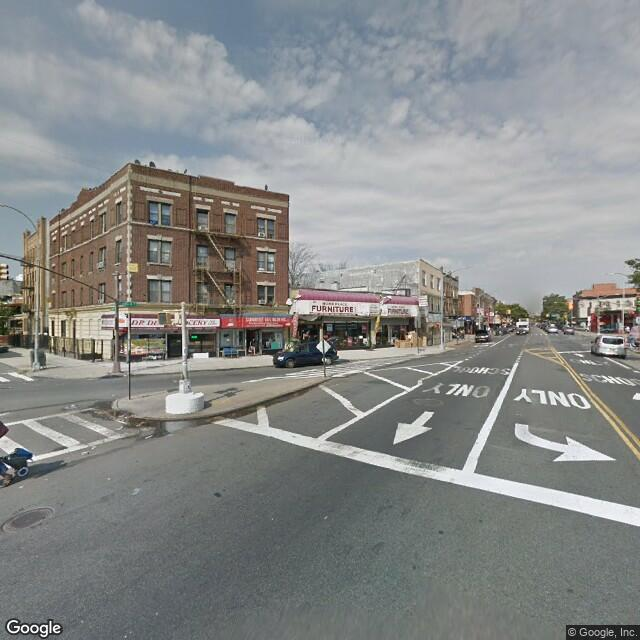litter: (61, 402, 78, 409), (142, 433, 154, 440), (135, 420, 146, 427), (80, 449, 88, 458), (113, 424, 124, 430), (88, 446, 97, 450)
